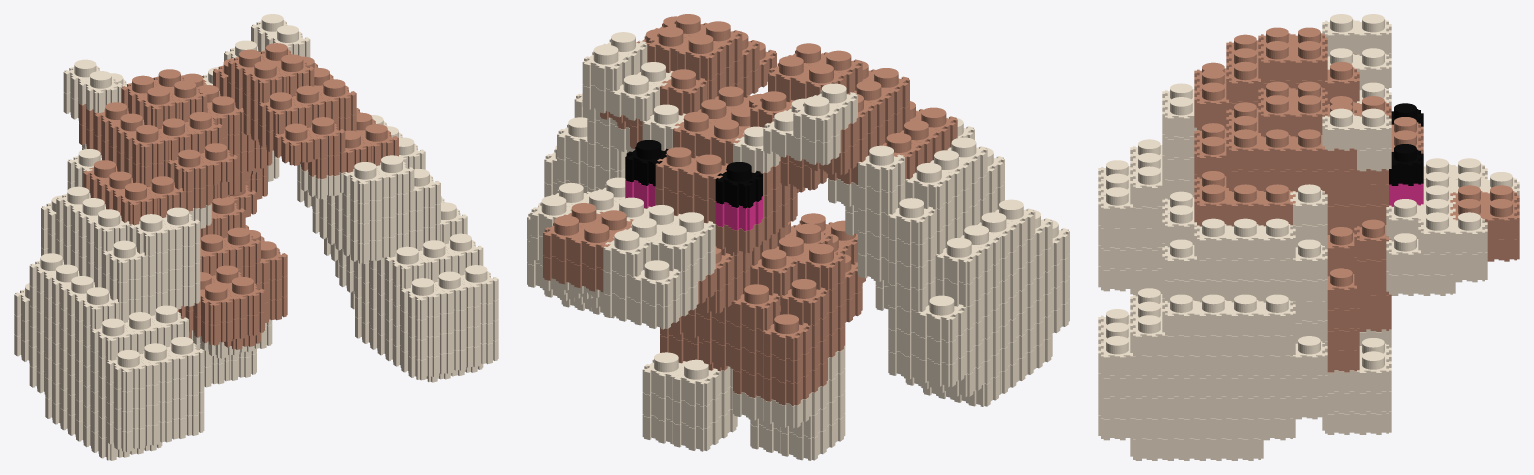
File: Lopuny.glb
3 views of the same model, side by side, from view 1: azimuth 30°, elevation 25°; view 2: azimuth 150°, elevation 25°; view 3: azimuth 270°, elevation 25° (orthographic). The views are drawn at different scales.
Parts seen in each view (by area): view 1: piece001 (×107); view 2: piece001 (×128); view 3: piece001 (×164).
Part boxes in pixels (bbox=[...]): piece001 (×107): bbox=[29, 14, 498, 460]; piece001 (×128): bbox=[530, 14, 1069, 460]; piece001 (×164): bbox=[1098, 14, 1519, 460].
Size of the model in its own units: 38.82 by 32.16 by 36.08.
